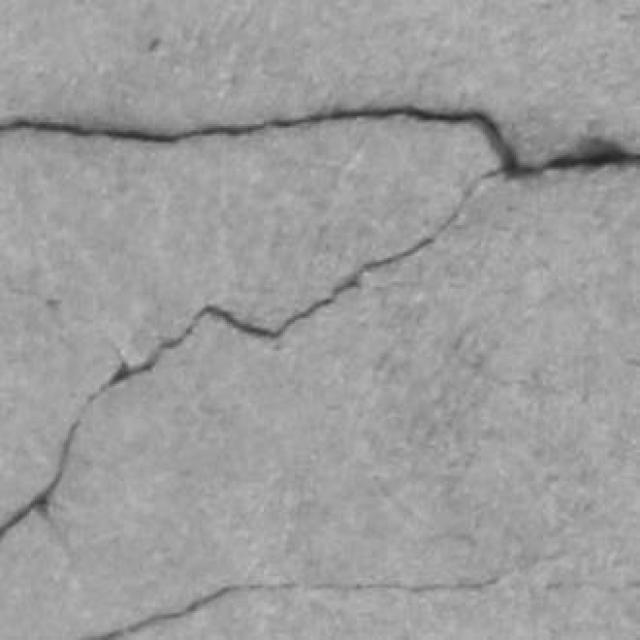crack: (0, 171, 500, 541), (0, 105, 639, 178), (0, 105, 521, 174), (82, 573, 511, 639), (82, 576, 502, 639), (0, 375, 116, 541)
